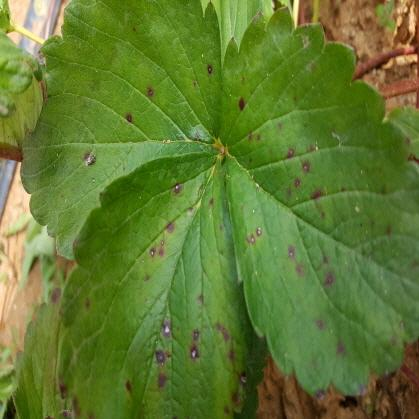Leaf Spot: (220, 6, 418, 398), (15, 0, 222, 261), (56, 151, 254, 418)
